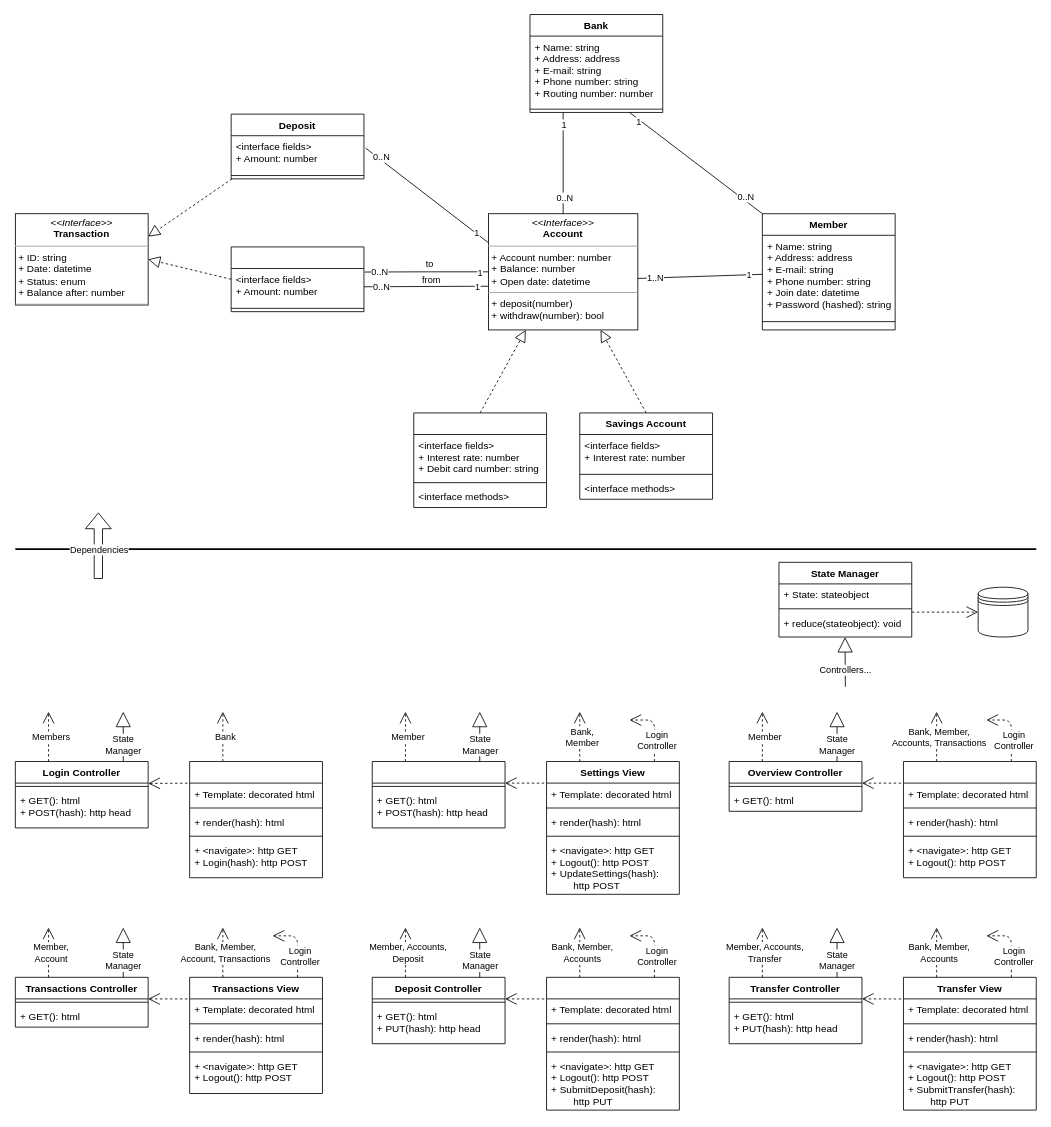
This 1051x1127 diagram has some shape labels left out. The box of each missing label's shape, as (x1, y1, x2, y2) in pixels:
Checking Account: (413, 412, 547, 508)
Data store: (977, 586, 1028, 637)
Deposit View: (546, 976, 679, 1110)
Login View: (189, 761, 322, 878)
Overview View: (903, 761, 1036, 878)
Settings Controller: (371, 761, 505, 828)
Transfer: (230, 246, 364, 312)
